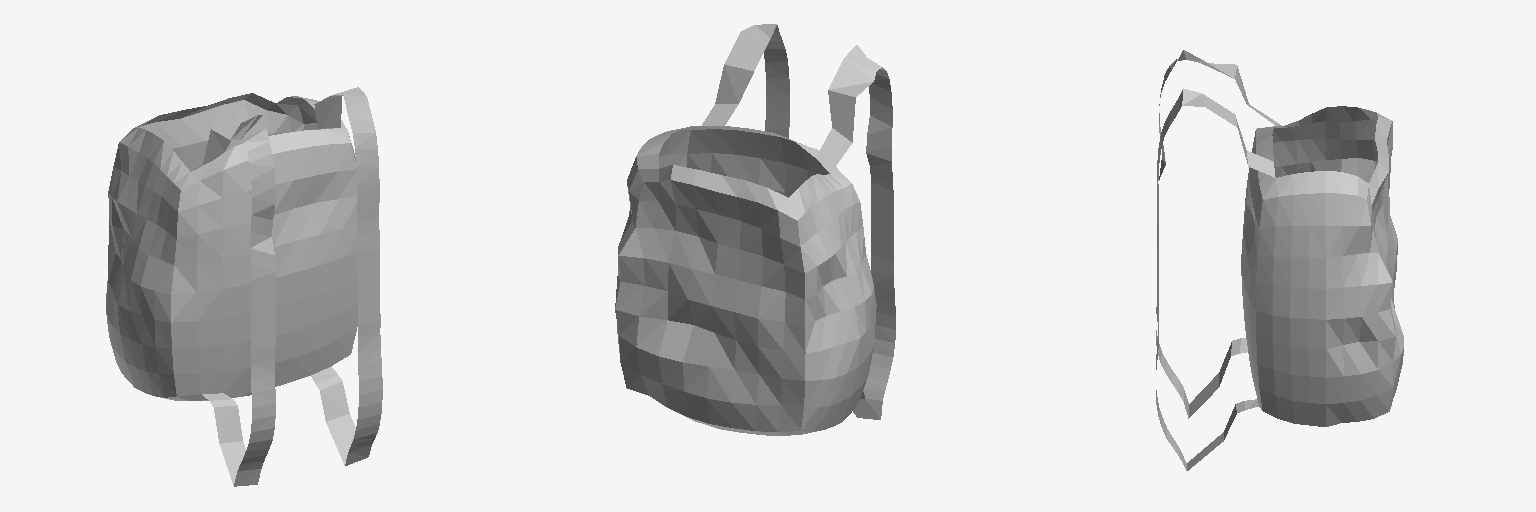
File: testobj5.obj
The picture shows the model from 3 angles: view 1: azimuth 30°, elevation 25°; view 2: azimuth 150°, elevation 25°; view 3: azimuth 270°, elevation 25°; orthographic projection.
Parts seen in each view (by area): view 1: backpack_1.001; view 2: backpack_1.001; view 3: backpack_1.001.
Boxes of the visible parts, box(x1,y1,x2,y2) form: backpack_1.001: box(106, 87, 382, 486); backpack_1.001: box(615, 24, 895, 435); backpack_1.001: box(1156, 50, 1403, 470).
Bounding box in the file's own units: 0.7269 × 1.13 × 0.68.